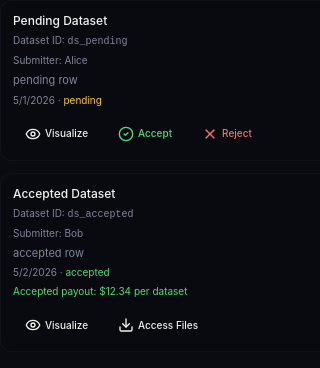
SubmissionsTab › owner accept/reject updates local status in-place
The width and height of the screenshot is (320, 368).
Later steps or results of the test are not shown.
Expected: the text "Pending Dataset" is shown, [13,13,107,28]
Click the button "Accept" at (145, 134), box [106,120,184,148]
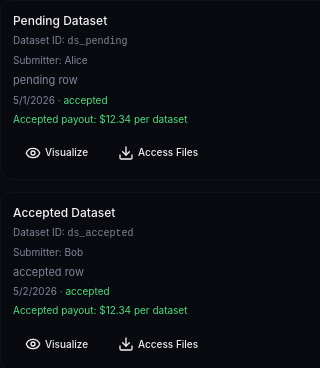
Expected: the text "accepted" next to "5/1/2026" is shown, [63,94,108,106]
